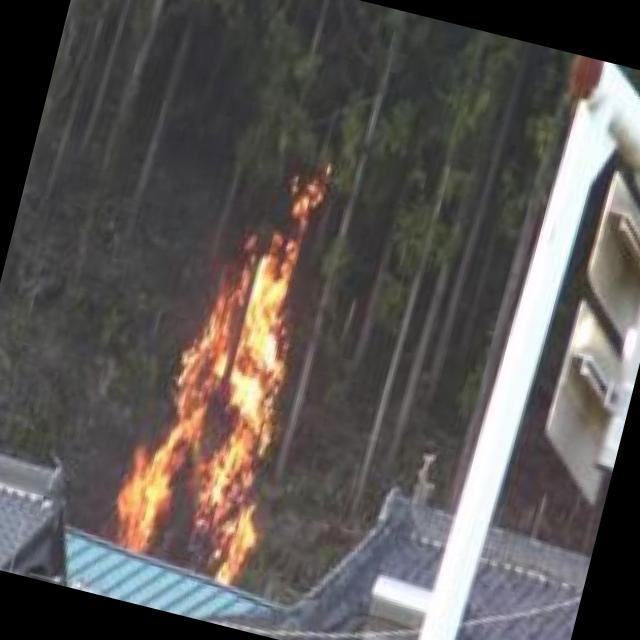Fire: (114, 153, 360, 594)
